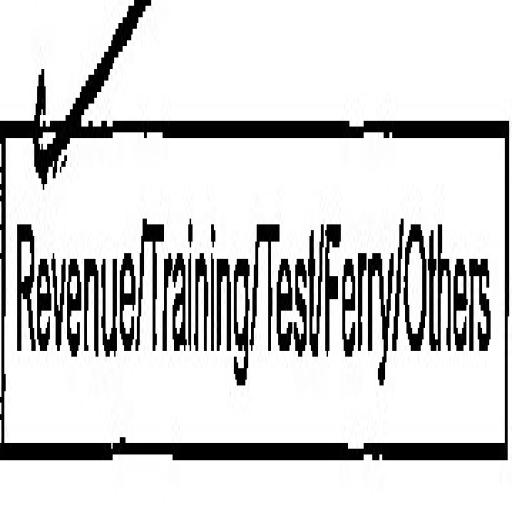check: (0, 0, 142, 488)
